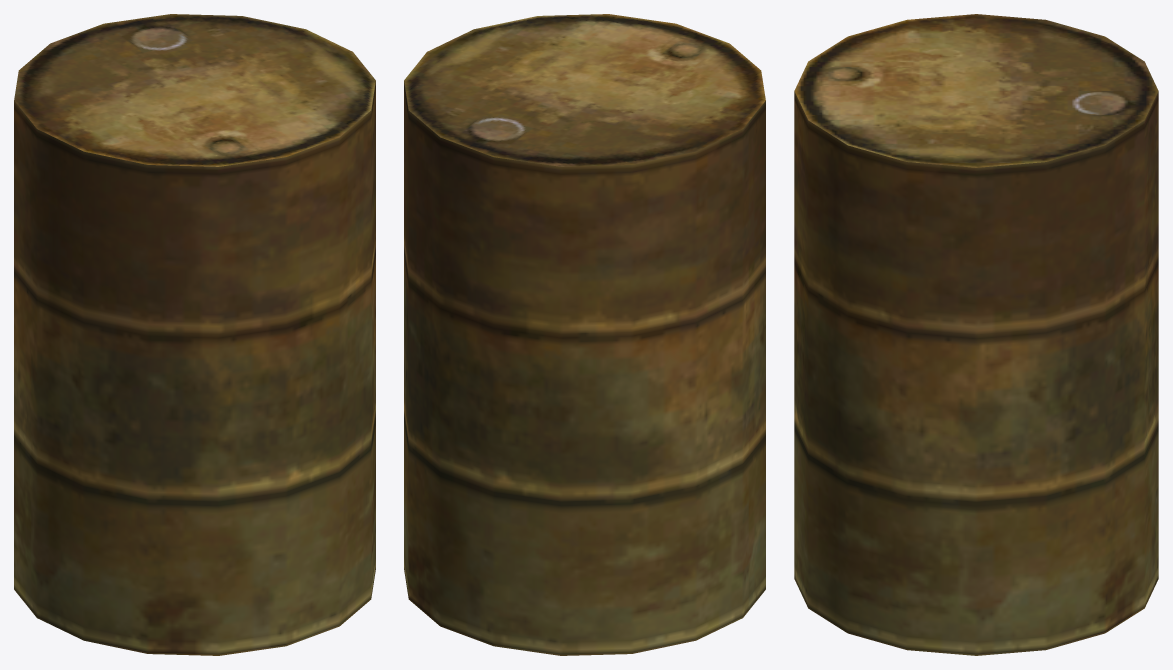
Rendered from od_single_upright_orange.fbx.
3 views of the same model, side by side, from view 1: azimuth 30°, elevation 25°; view 2: azimuth 150°, elevation 25°; view 3: azimuth 270°, elevation 25° (orthographic).
Visible parts, largest first — view 1: mesh_0; view 2: mesh_0; view 3: mesh_0.
Part boxes in pixels (x1,y1,x2,y2): mesh_0: [14, 14, 375, 655]; mesh_0: [404, 14, 765, 655]; mesh_0: [794, 14, 1158, 655].
Size of the model in its own units: 59.69 by 88.26 by 59.69.
Materials: 1 (1 with a texture image).
